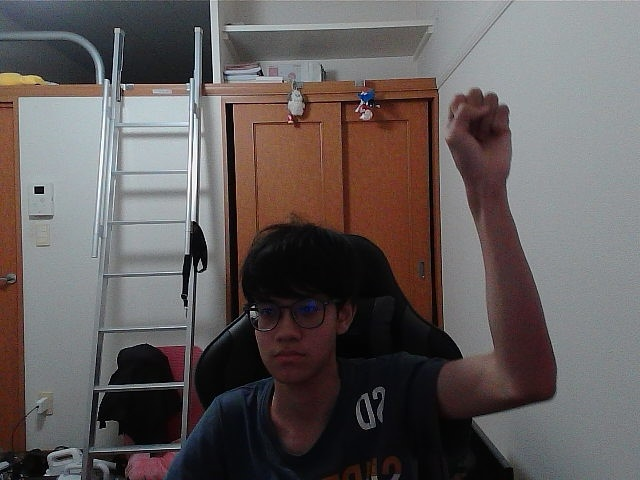closed_palm: (456, 93, 503, 178)
